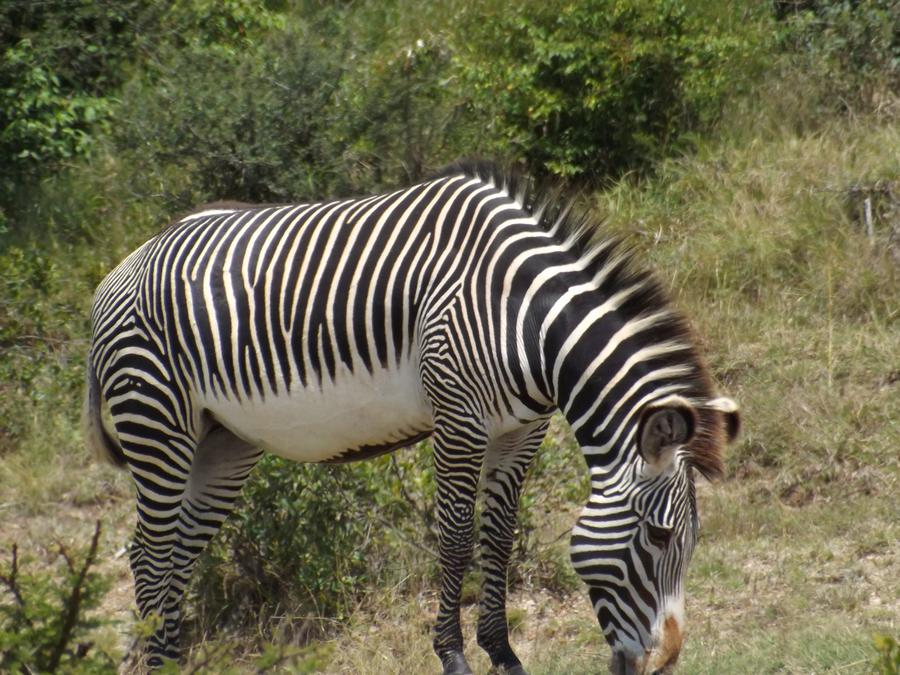zebra_grevys: (88, 183, 504, 438)
